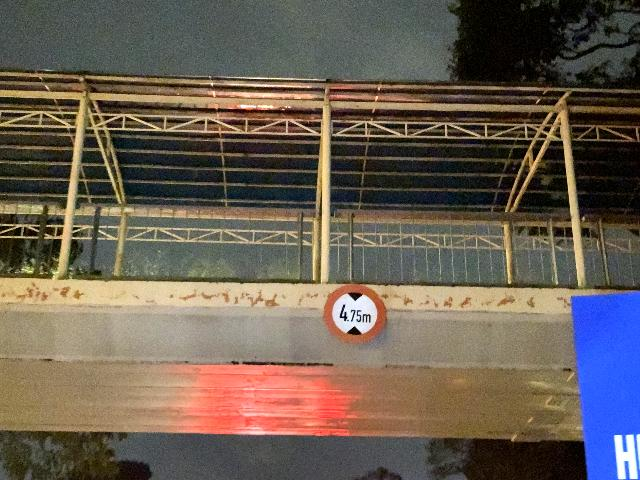han-che-chieu-cao: (324, 284, 387, 343)
